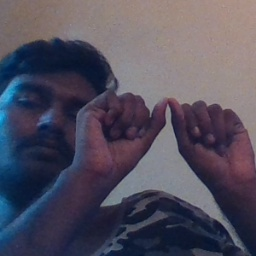A: (103, 89, 225, 170)
